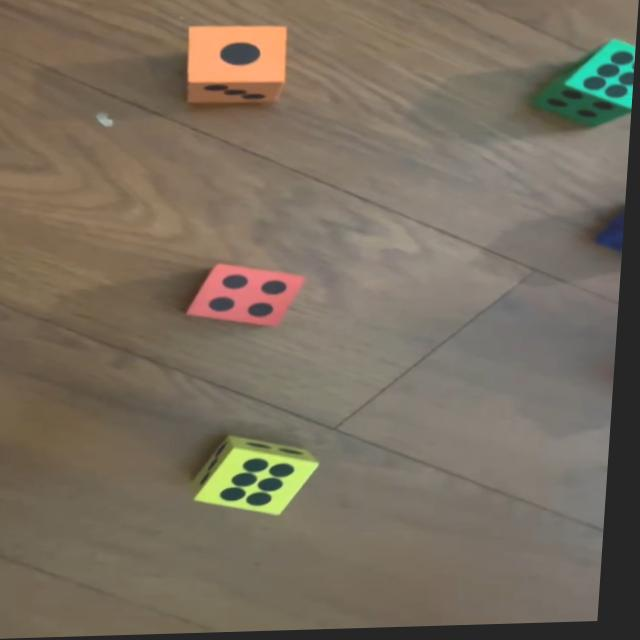red_block: (190, 262, 311, 331)
